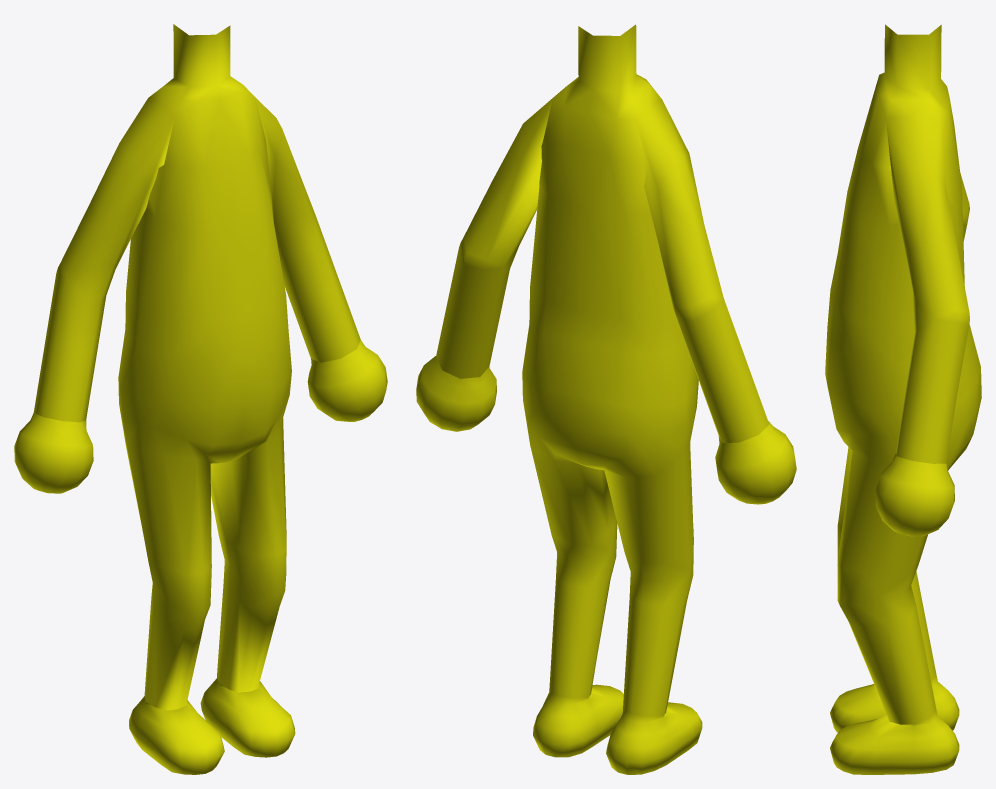
Rendered from Nose_3.glb.
3 renders of one model, left to right at view 1: azimuth 30°, elevation 25°; view 2: azimuth 150°, elevation 25°; view 3: azimuth 270°, elevation 25°, orthographic.
Bounding box in the file's own units: 55.02 × 103 × 20.3.
